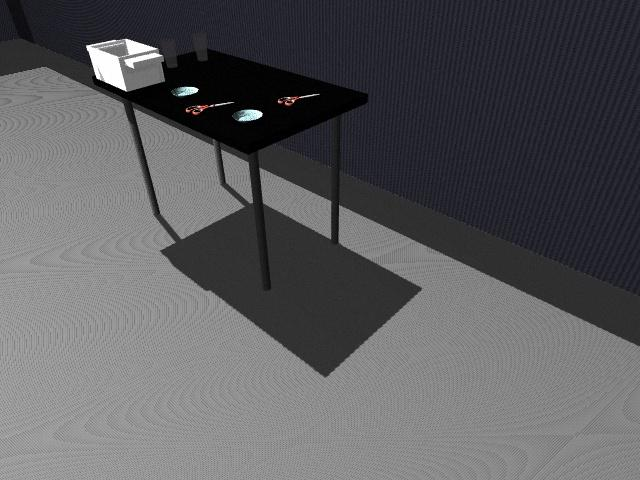cup: (191, 31, 209, 61), (160, 38, 178, 68)
plate: (231, 109, 264, 122), (171, 86, 198, 97)
scissors: (186, 102, 236, 116), (278, 93, 320, 106)
